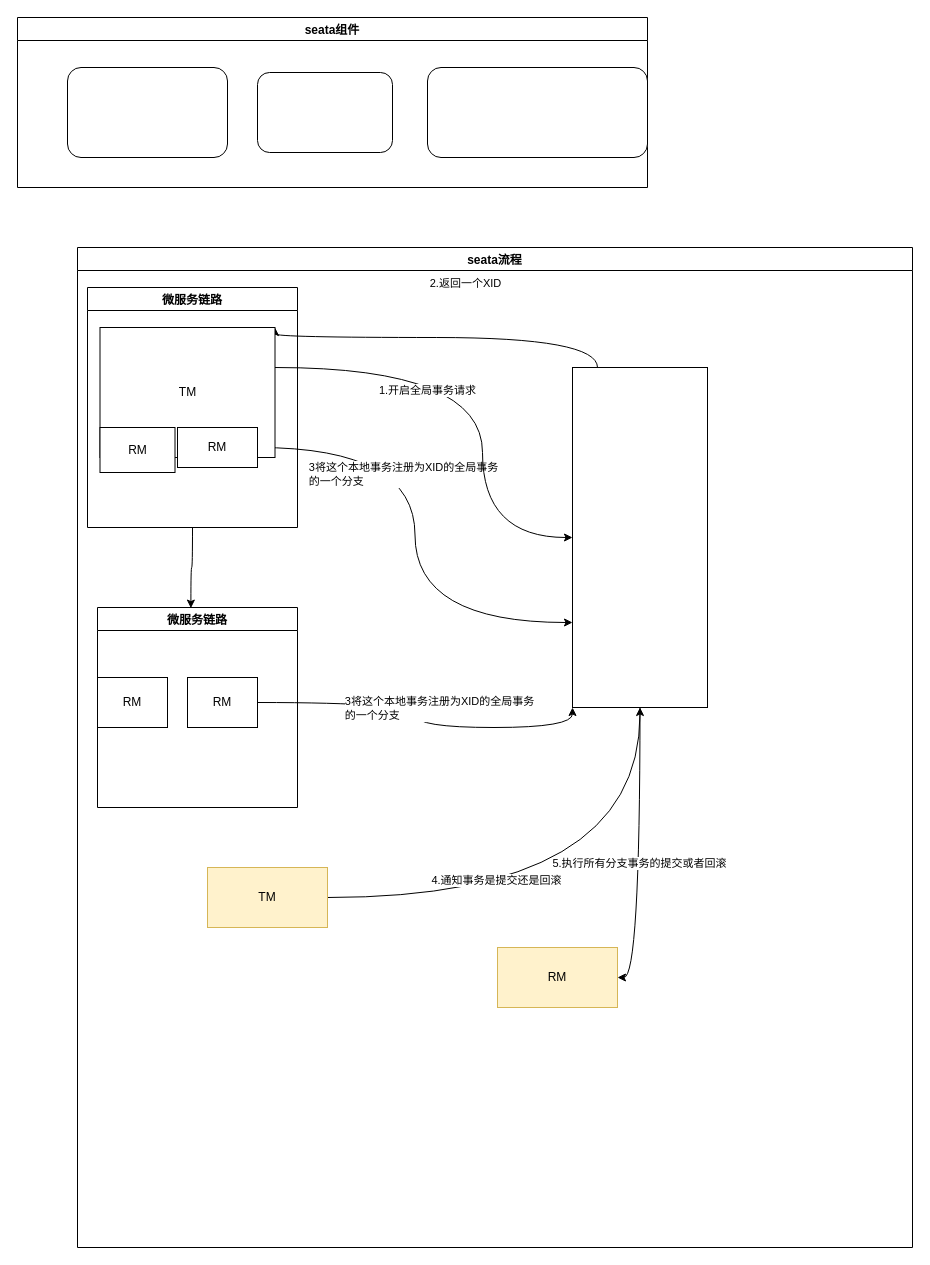
This 930x1265 diagram has some shape labels left out. The centre of each missing label's shape, as x and y in pixels:
"RM资源管理器 管理分支事务处理的资源，和TC进行通信以注册分支事务和报告分支事务的状态，并驱动分支事务提交或者回滚" goes at pixel 537 112.
"TC" goes at pixel 640 537.
"TC事务协调器 维护全局和分支事务的状态，执行提交和回滚" goes at pixel 147 112.
"TM事务管理器 开启全局事务，定义全局事务的范围，提交或者回滚" goes at pixel 324 112.
